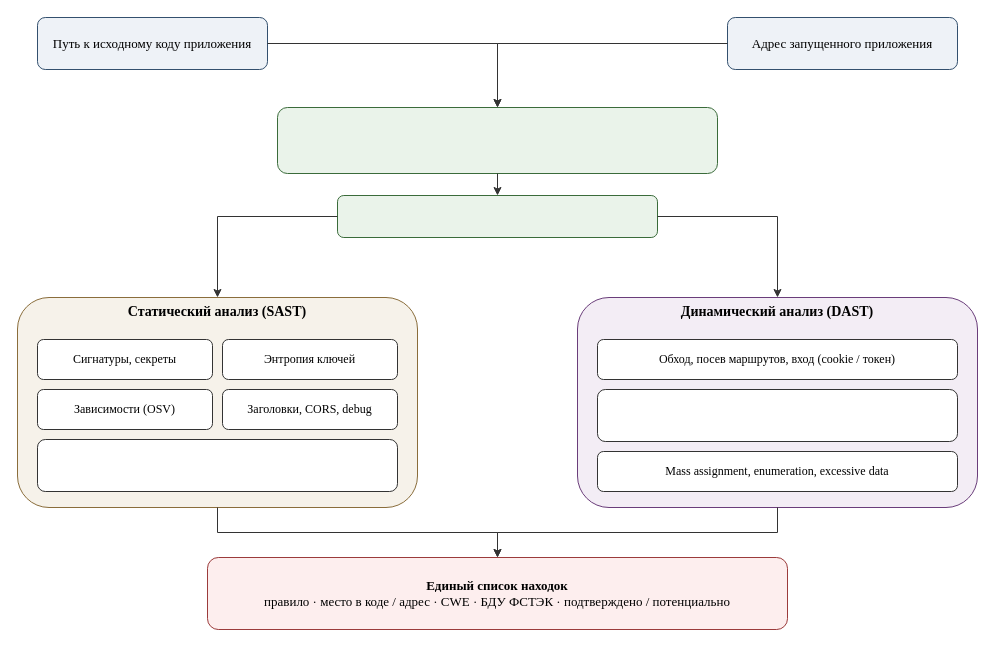
Image size: 995x647. Some labels were removed from this diagram. Each missing label, with the centre of its shape:
Taint-анализ (AST: Python, JS/TS, PHP; межфайловый; построчный запасной): the point at 217,465
Активные пробы: SQLi, XSS, команды, путь, SSRF, SSTI, XXE, IDOR, подмена оплаты: the point at 777,415
Единая модель маршрутов: the point at 497,216
Извлечение маршрутов из кода (Flask/FastAPI/Express/Django) и OpenAPI/Swagger: the point at 497,140
